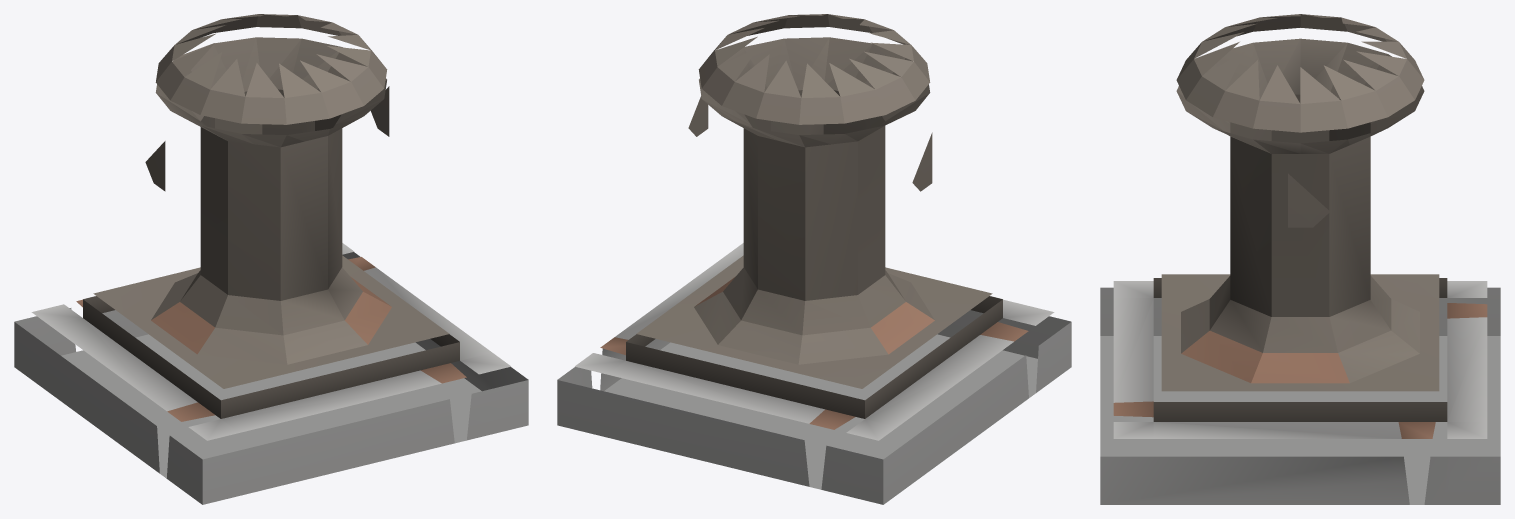
Rendered from bollard.lod.glb.
3 renders of one model, left to right at view 1: azimuth 30°, elevation 25°; view 2: azimuth 150°, elevation 25°; view 3: azimuth 270°, elevation 25°, orthographic. The views are drawn at different scales.
Parts seen in each view (by area): view 1: bollard.001; view 2: bollard.001; view 3: bollard.001.
Boxes of the visible parts, box(x1,y1,x2,y2) form: bollard.001: box(14, 14, 528, 504); bollard.001: box(557, 14, 1071, 504); bollard.001: box(1100, 14, 1500, 504).
Bounding box in the file's own units: 0.48 × 0.5016 × 0.48.
